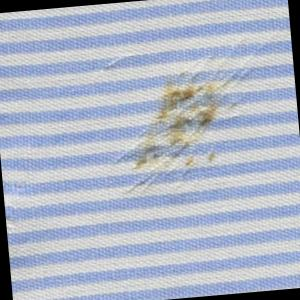Damage: (97, 28, 294, 203)
Oil Stain: (125, 66, 245, 183)
